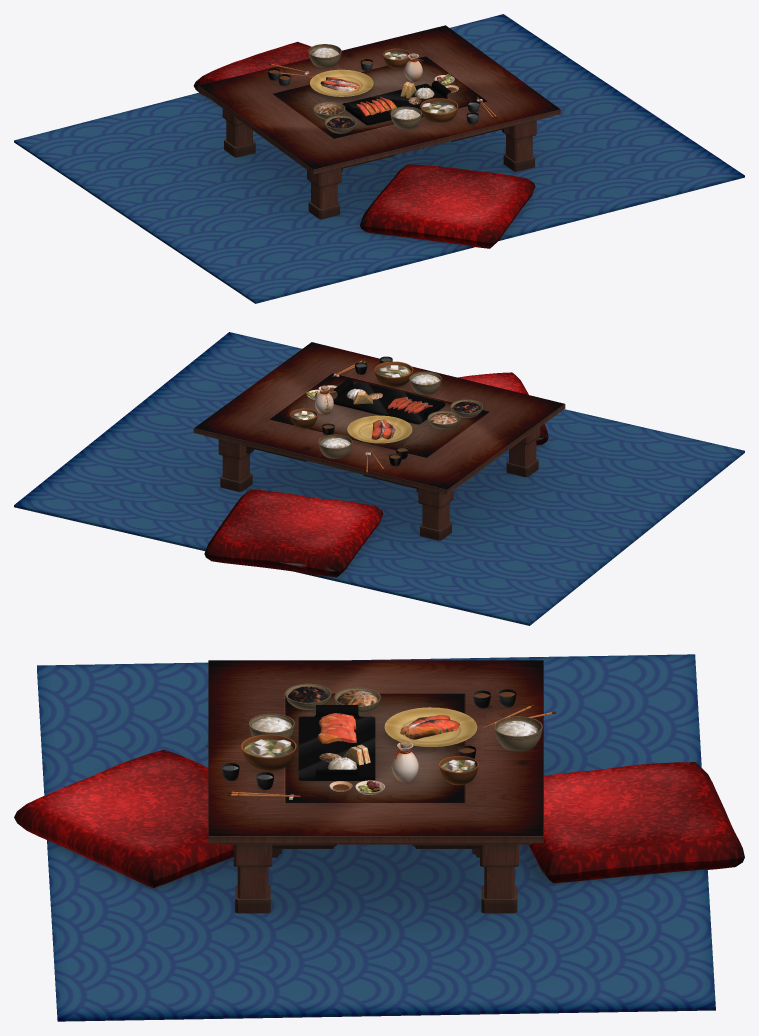
File: dinner.glb
The picture shows the model from 3 angles, top to bottom: view 1: azimuth 30°, elevation 25°; view 2: azimuth 150°, elevation 25°; view 3: azimuth 270°, elevation 25°; orthographic projection. The views are drawn at different scales.
Visible parts, largest first — view 1: Object_2, Object_3; view 2: Object_2, Object_3; view 3: Object_2, Object_3.
Boxes of the visible parts, x1=… form: Object_2: x1=14, y1=14, x2=744, y2=303; Object_3: x1=193, y1=41, x2=535, y2=248; Object_2: x1=14, y1=332, x2=744, y2=625; Object_3: x1=204, y1=356, x2=548, y2=577; Object_2: x1=37, y1=654, x2=715, y2=1021; Object_3: x1=14, y1=683, x2=744, y2=887.
Bounding box in the file's own units: 2.39 × 0.3903 × 2.03.
1 material, 1 textured.
